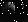person: (4, 4, 11, 16), (18, 2, 24, 13), (10, 4, 15, 14)
